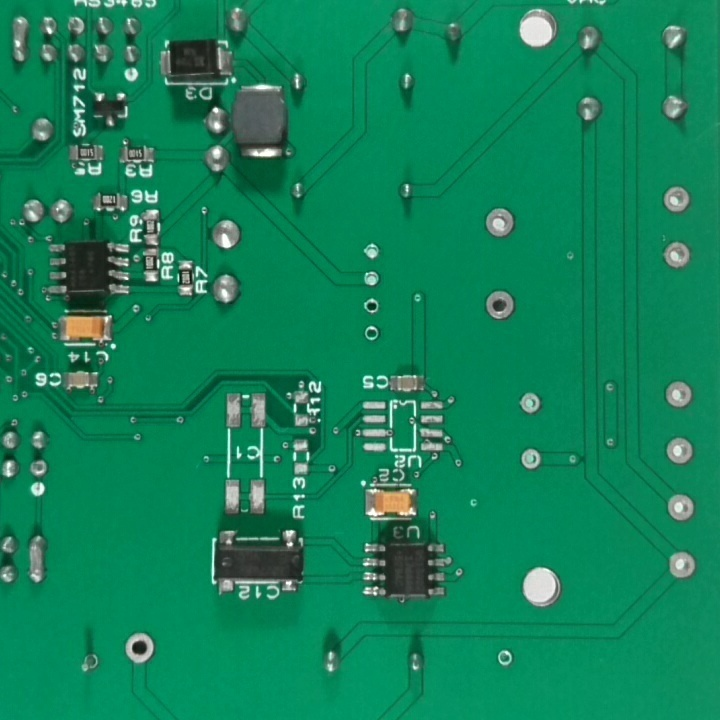F: (121, 627, 159, 669), (660, 375, 696, 418), (483, 287, 519, 327), (662, 433, 698, 471), (483, 208, 519, 243), (665, 546, 699, 583), (664, 489, 697, 526), (659, 185, 695, 218), (660, 238, 693, 272), (73, 649, 110, 678), (514, 391, 546, 423), (491, 644, 516, 671), (517, 449, 544, 473), (27, 456, 49, 482), (64, 13, 85, 38), (361, 238, 380, 261), (362, 269, 381, 292), (363, 321, 380, 345), (361, 296, 382, 315)
P: (24, 527, 49, 598), (7, 11, 32, 69)
